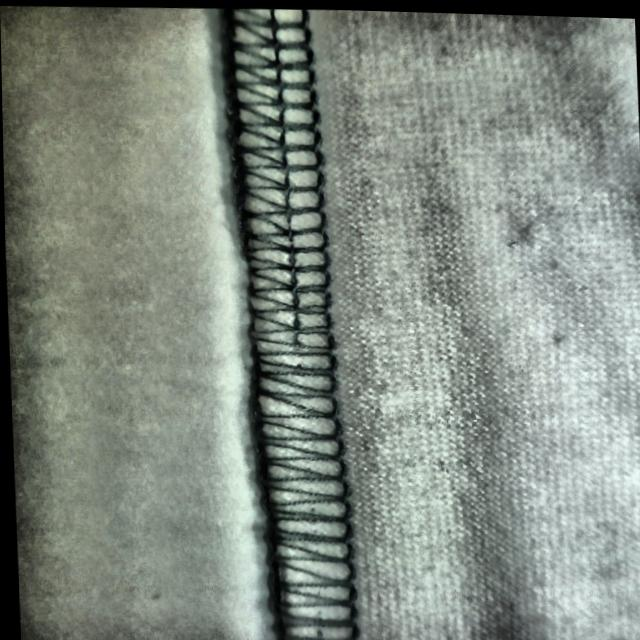Stitch: (228, 104, 352, 580)
